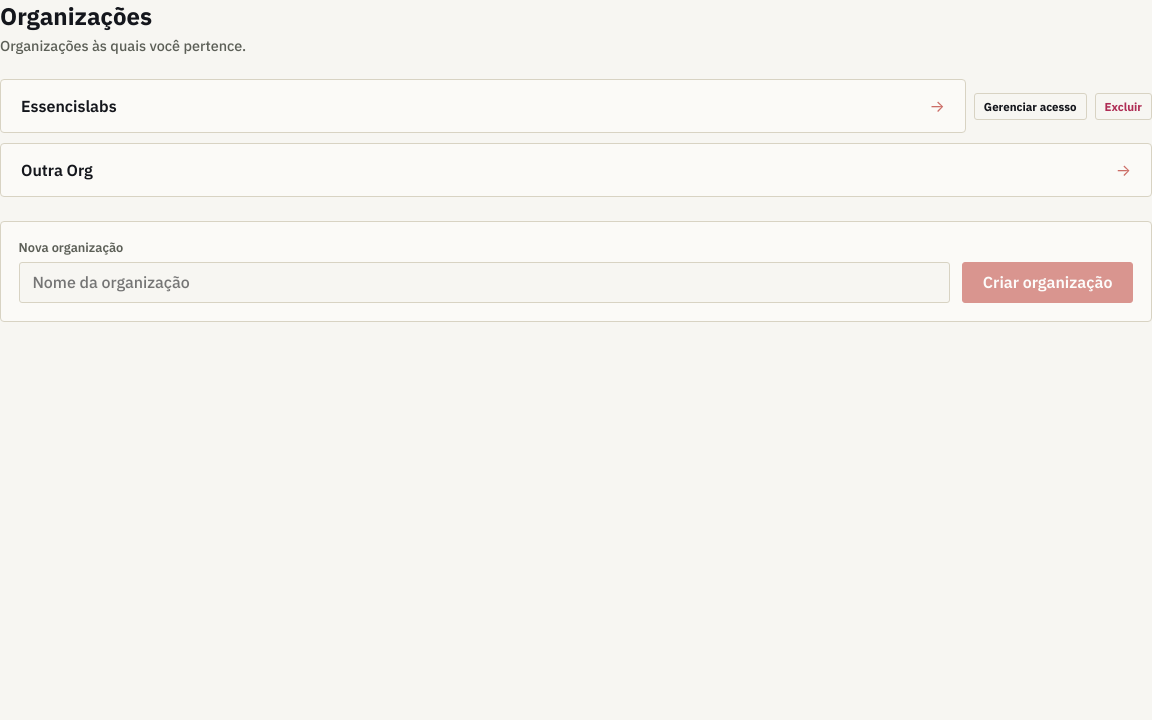
Test: OrganizationsPage — exclusão (TASK-011) › CA-01: confirmar a exclusão remove a organização da lista
Expected: the text "Essencislabs" is shown, [21,96,117,116]
Click the button "Excluir" at (1123, 106), box [1094,92,1151,120]
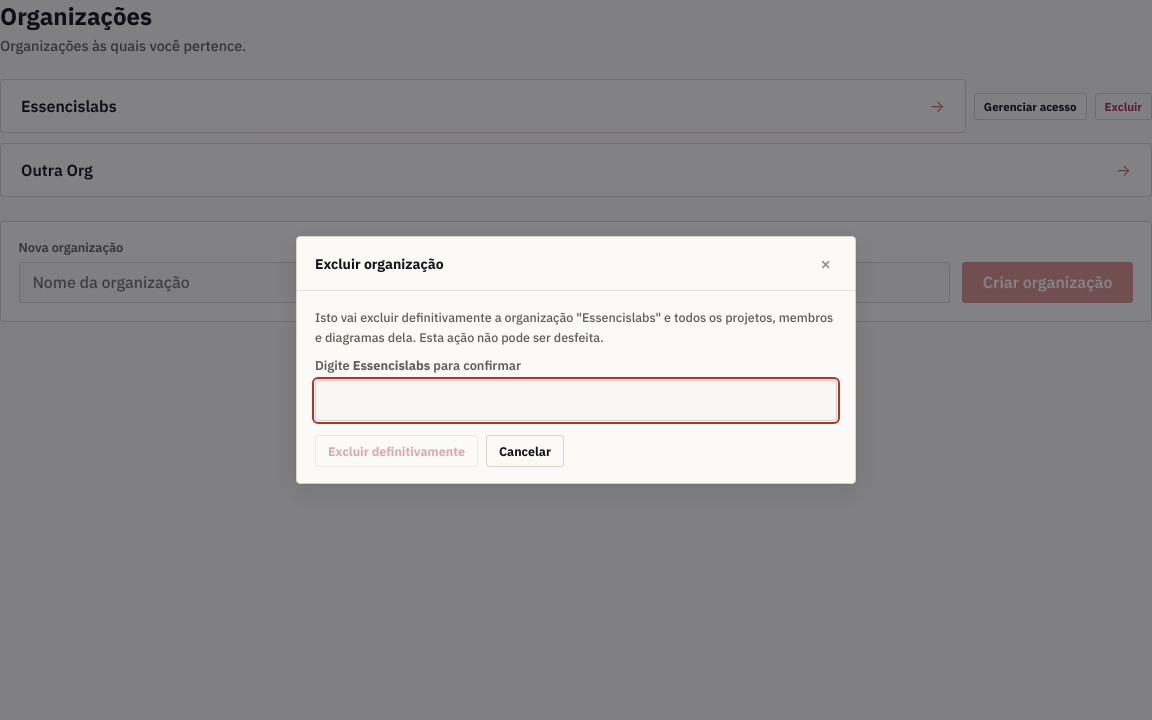
Now the heading "Excluir organização" is shown, box [315,255,444,273]
Type "Essencislabs" into the field labelled "Digite Essencislabs para confirmar" at (576, 400), box [315,380,837,421]
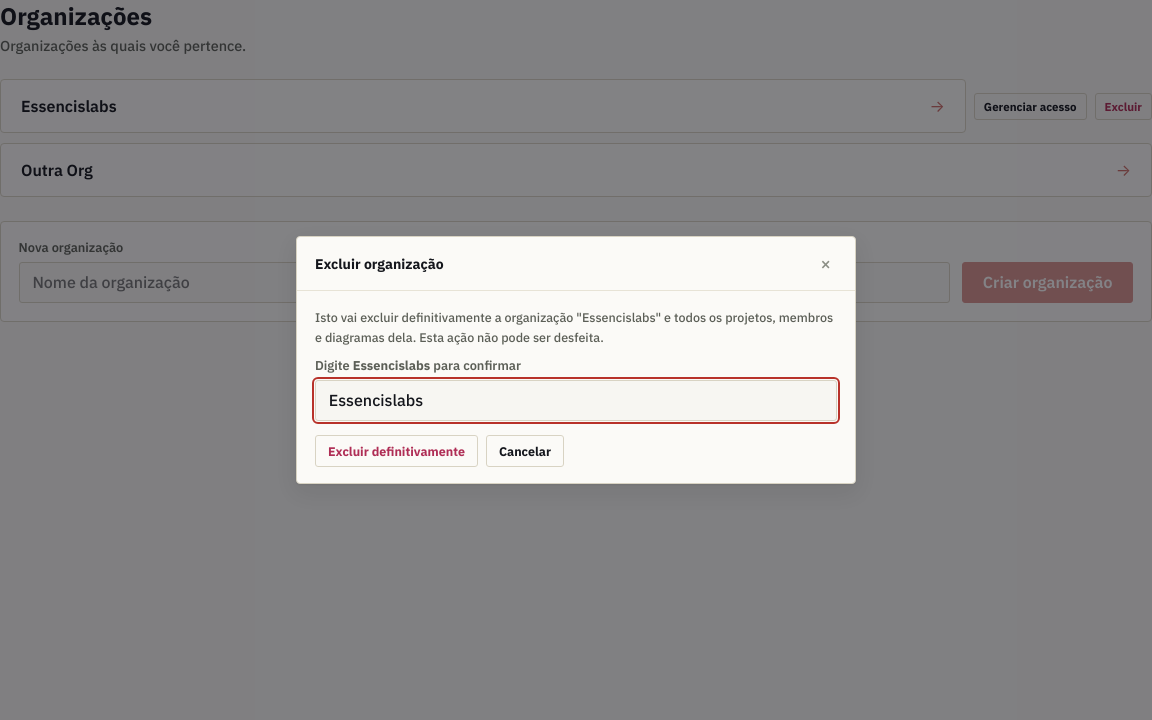
Click the button "Excluir definitivamente" at (396, 451), box [315,435,478,467]
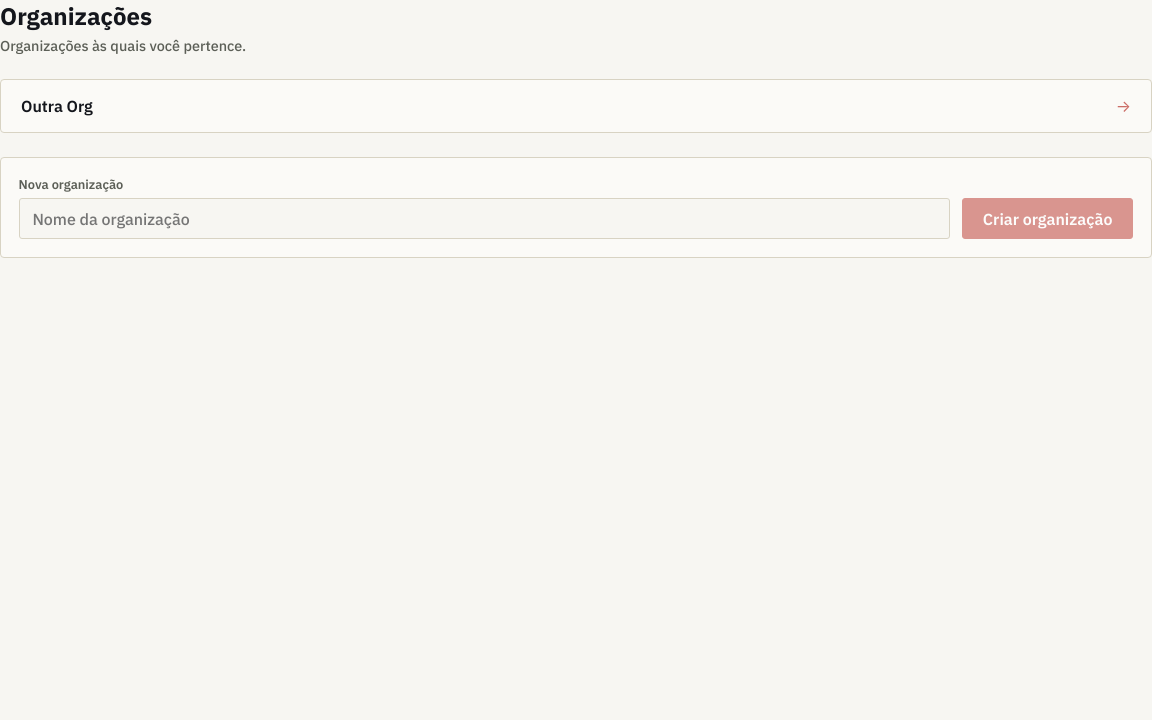
Now the link "Essencislabs" is gone
